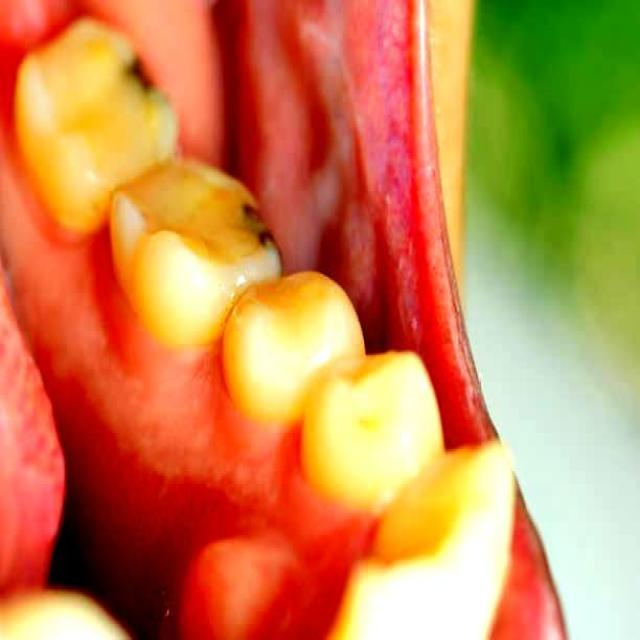caries: (119, 40, 174, 121), (238, 187, 284, 264)
